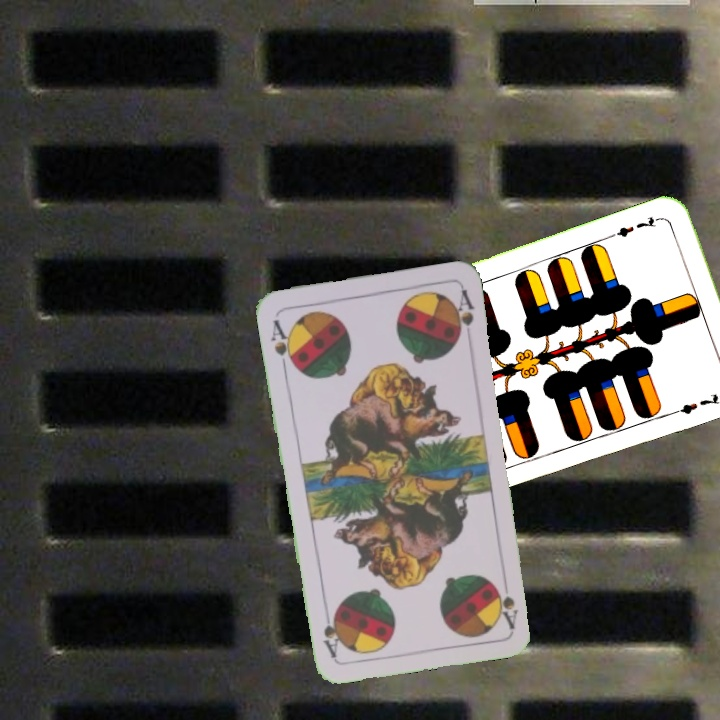E7: (608, 212, 665, 240)
SA: (266, 316, 298, 373), (493, 572, 521, 631)
